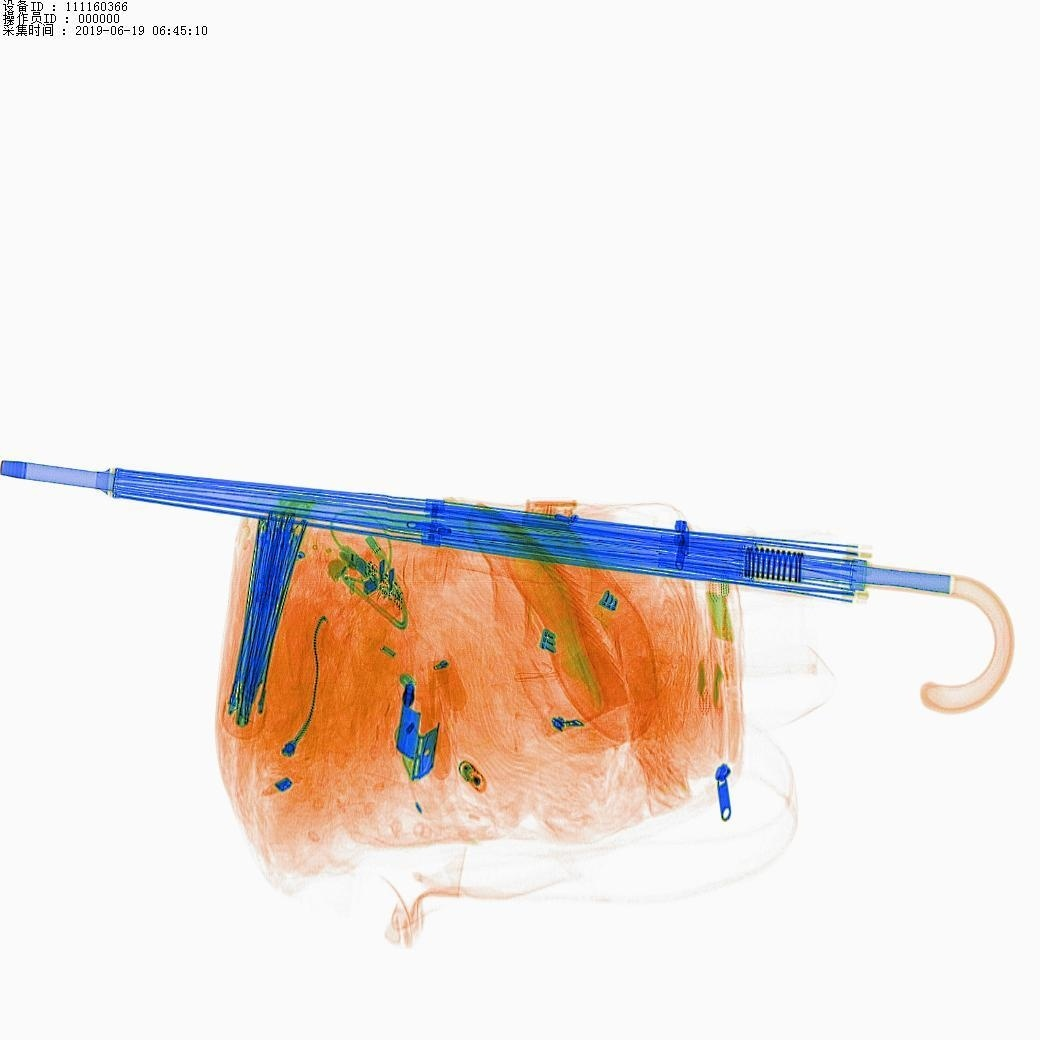NonmetallicFire: (438, 749, 519, 812)
